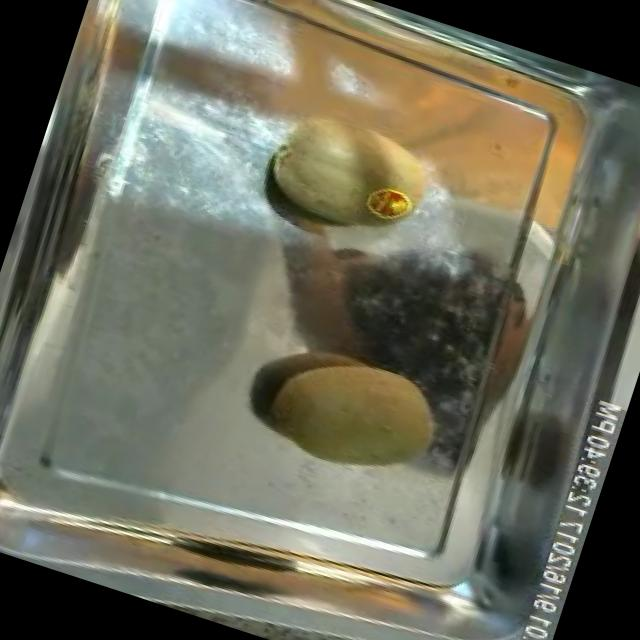Fruit: (242, 9, 488, 268), (244, 327, 458, 504), (357, 176, 424, 232)
